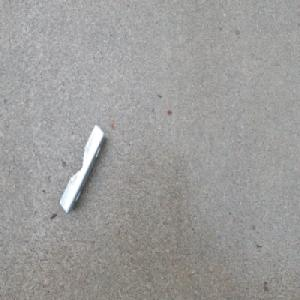ClampPart: (58, 122, 107, 215)
